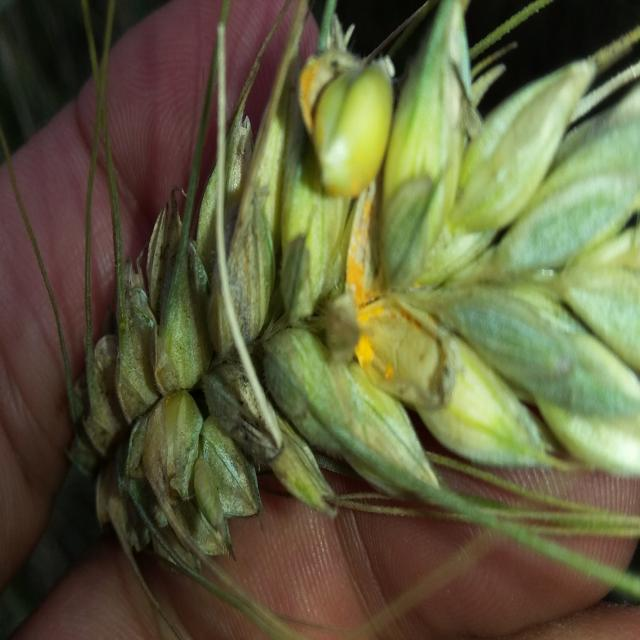wheat-yellowrust: (346, 184, 456, 413), (298, 49, 350, 149)
